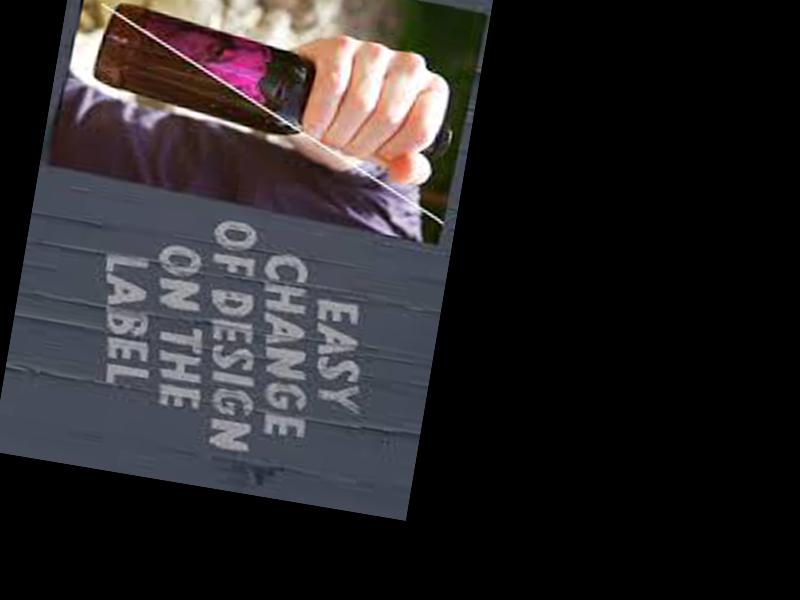Beer: (88, 4, 461, 164)
